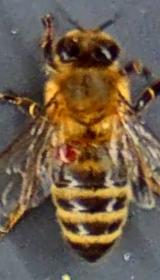varroa_mite: (54, 128, 85, 166)
